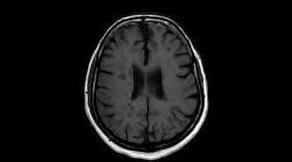Normal_Brain: (1, 1, 292, 162)
